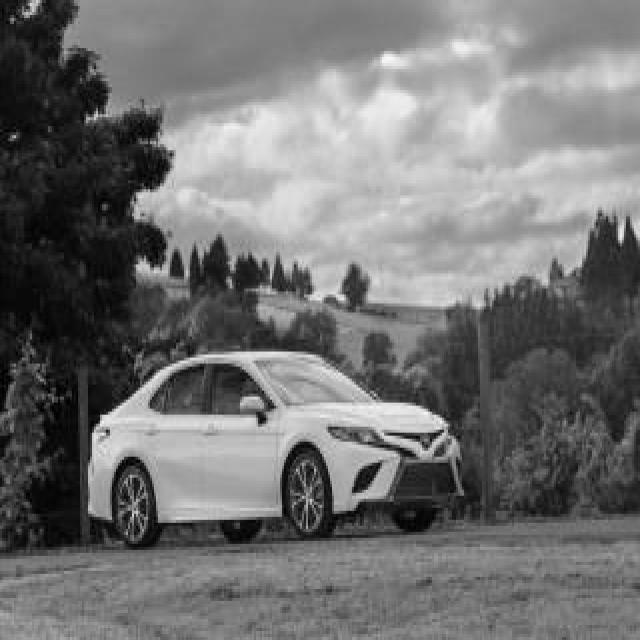Car: (90, 353, 464, 546)
